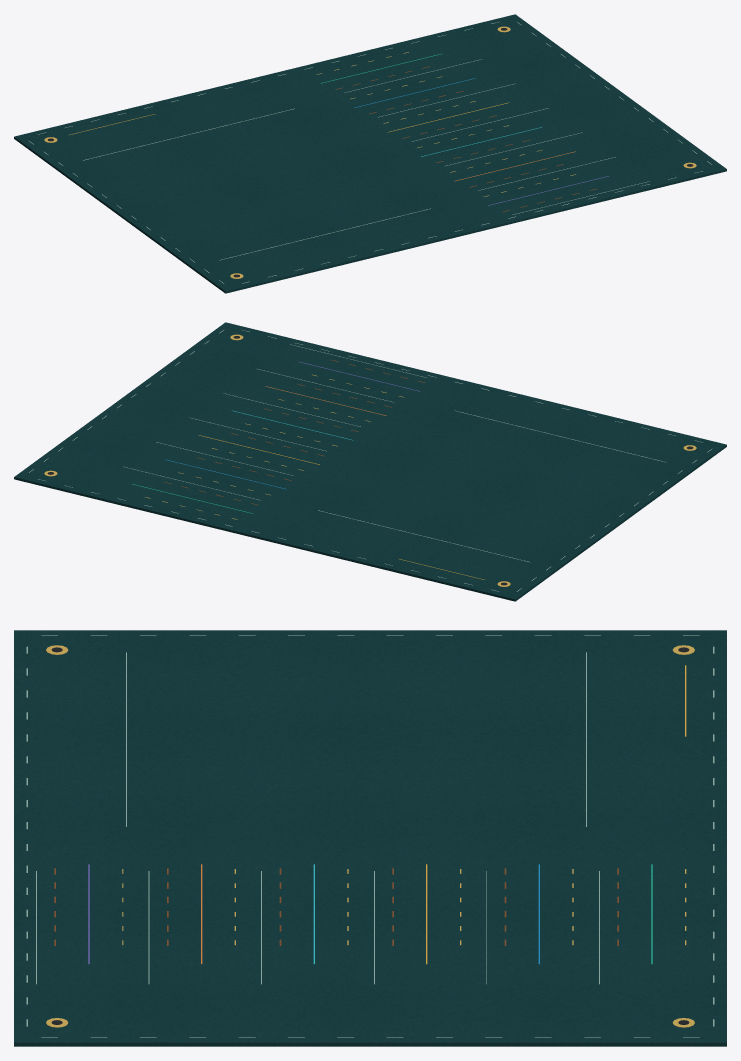
File: 265_L120_PCB_Main.obj
3 views of the same model, one above another, from view 1: azimuth 30°, elevation 25°; view 2: azimuth 150°, elevation 25°; view 3: azimuth 270°, elevation 25° (orthographic). The views are drawn at different scales.
Visible parts, largest first — view 1: 265_L120_PCB_Main; view 2: 265_L120_PCB_Main; view 3: 265_L120_PCB_Main.
Boxes of the visible parts, x1,y1,x2,y2 form: 265_L120_PCB_Main: (14,14,726,293); 265_L120_PCB_Main: (14,322,726,601); 265_L120_PCB_Main: (14,630,726,1046).
Size of the model in its own units: 0.52 by 0.00249 by 0.38.
11 materials, 11 textured.
